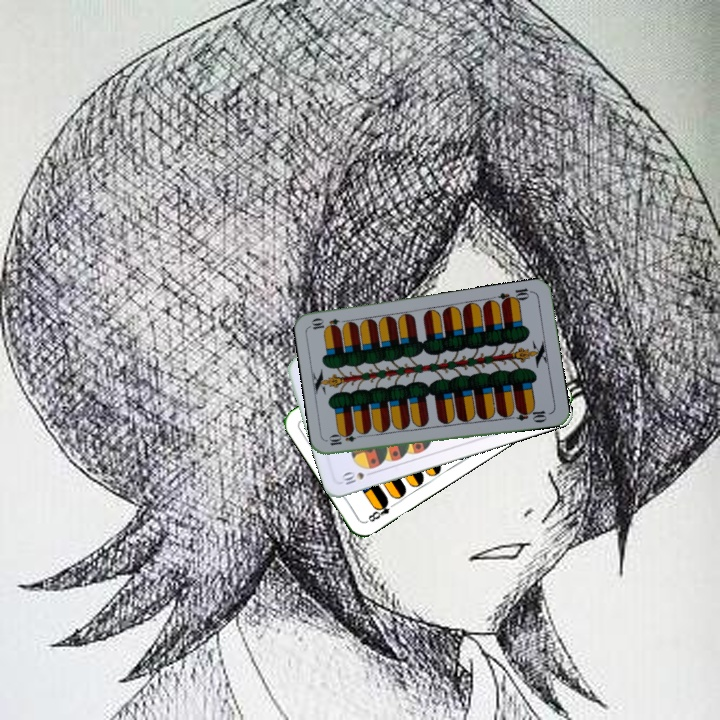E10: (495, 284, 535, 307), (325, 430, 366, 448)
E8: (362, 496, 399, 525)
S10: (337, 468, 367, 487)
